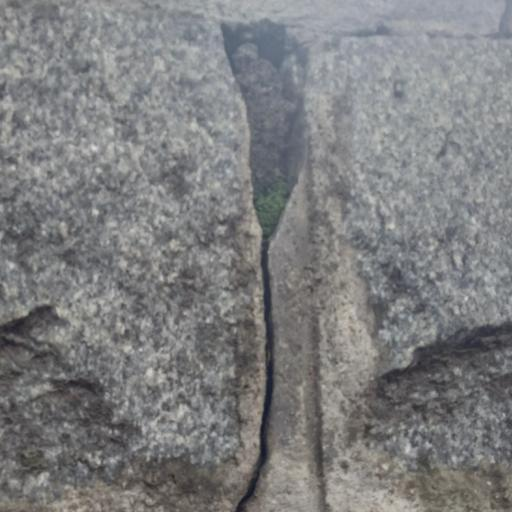major_crack: (210, 3, 323, 512)
